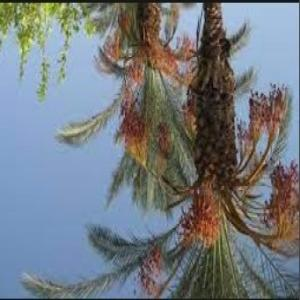palm tree: (0, 2, 298, 298)
